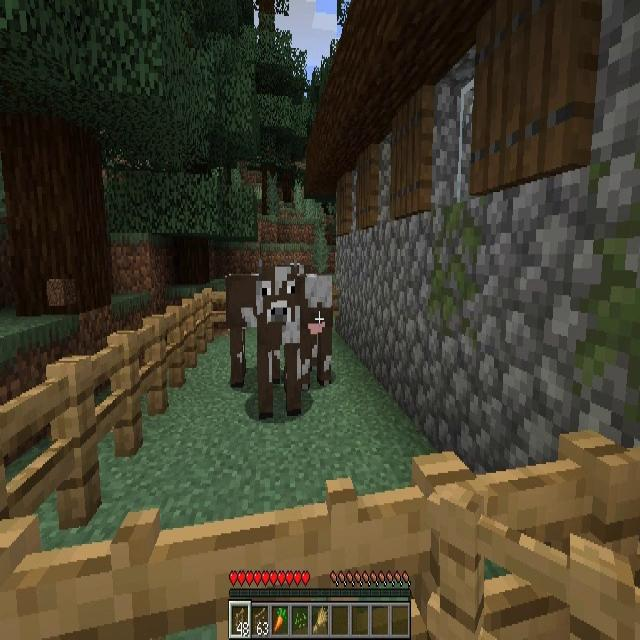cow: (229, 273, 302, 384), (265, 276, 333, 385), (260, 270, 302, 410)
